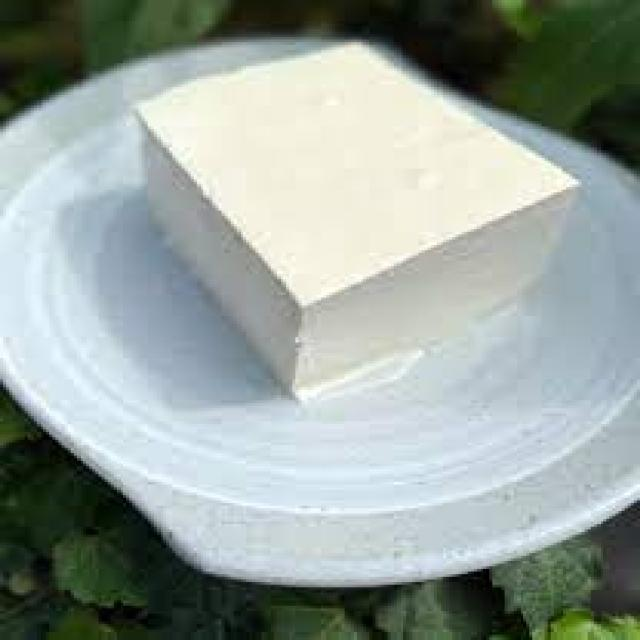tofu: (155, 51, 592, 422)
